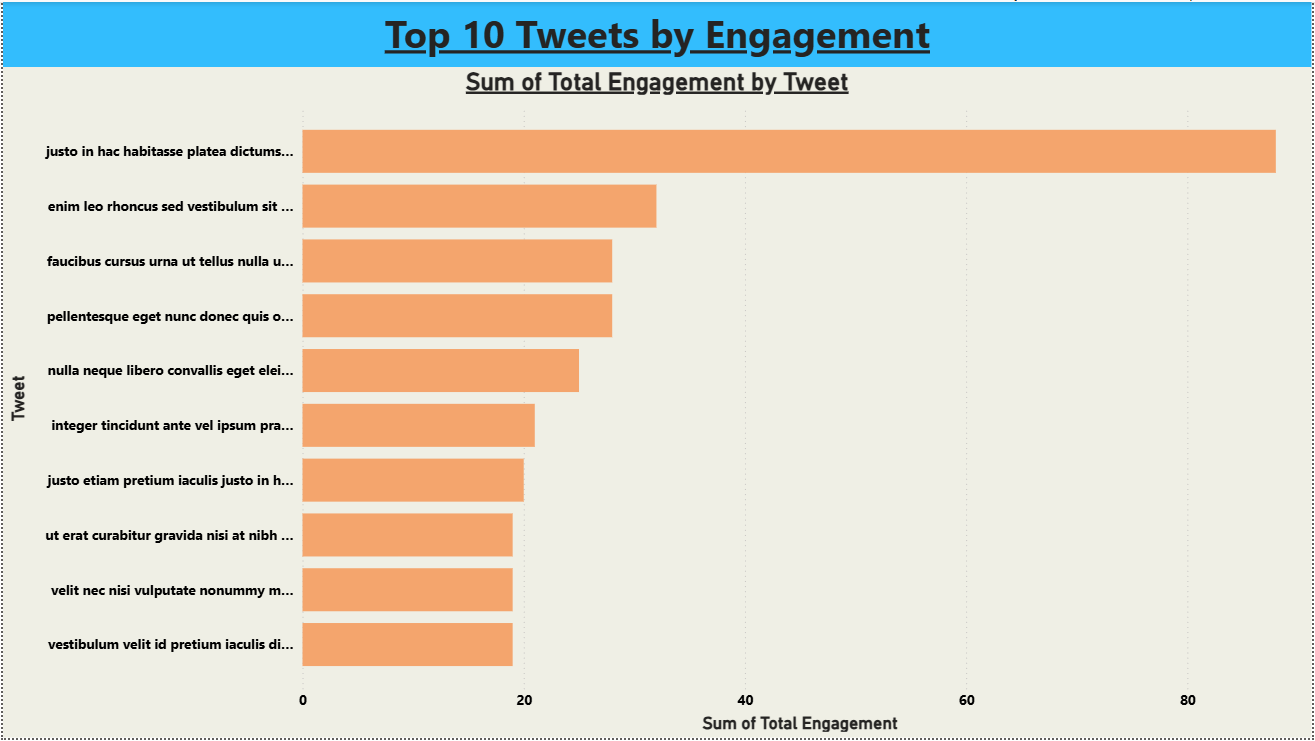

This screenshot's page, from the dashboard's own definition file:
{"tool":"powerbi","page":{"name":"Page 6","canvas":[1280,720],"ordinal":5},"visuals":[{"type":"textbox","box":[0,0,1280.3,64.5],"z":0},{"type":"clusteredBarChart","fields":{"Category":["Task6_data.Tweet"],"Y":["Sum(Task6_data.Total Engagement)"]},"box":[0,64.1,1280,655.7],"z":1000}]}

Visuals, with their boxes in screenshot pixels (x1, y1, x2, y2), scaled from the page's 1280x720 canvas onto the 1315x741 screenshot:
textbox: <bbox>0, 0, 1314, 66</bbox>
clusteredBarChart - Task6_data.Tweet x Sum(Task6_data.Total Engagement): <bbox>0, 66, 1314, 740</bbox>
